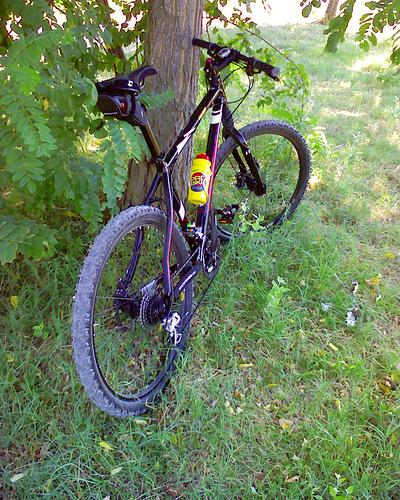bottle: (189, 154, 215, 208)
car: (70, 39, 312, 416)
